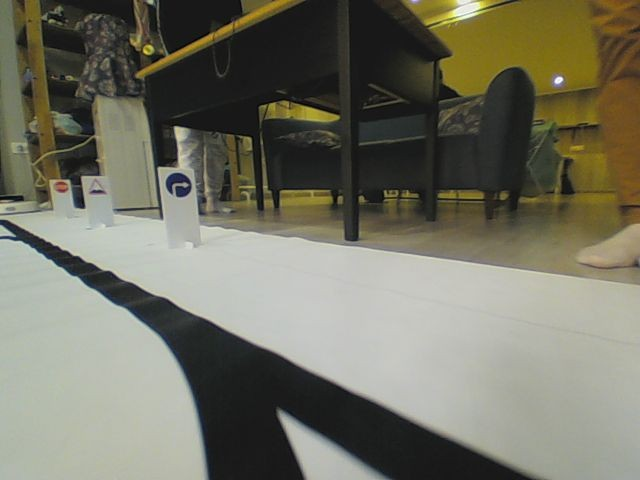Nerov: (85, 177, 106, 197)
Right: (163, 171, 193, 199)
